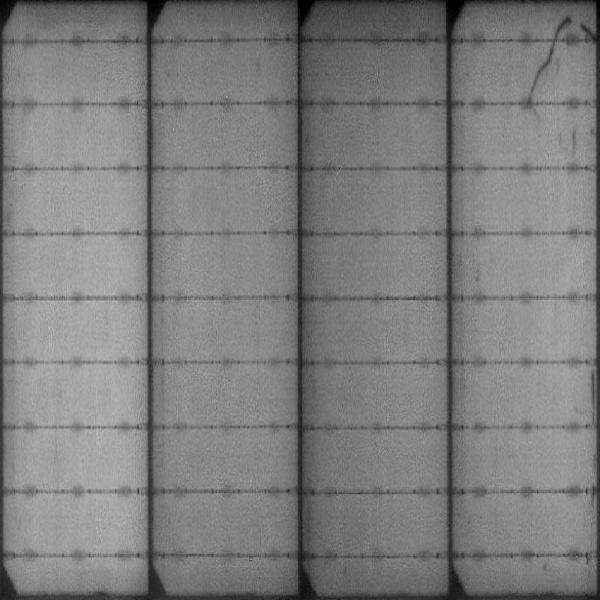scratch: (526, 17, 571, 101), (583, 23, 596, 45)
